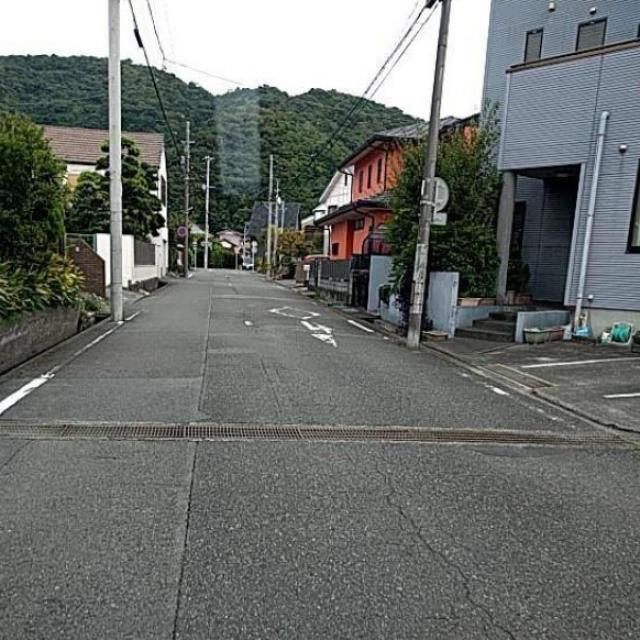Melintang: (25, 407, 619, 458)
Memanjang: (154, 316, 225, 640)
